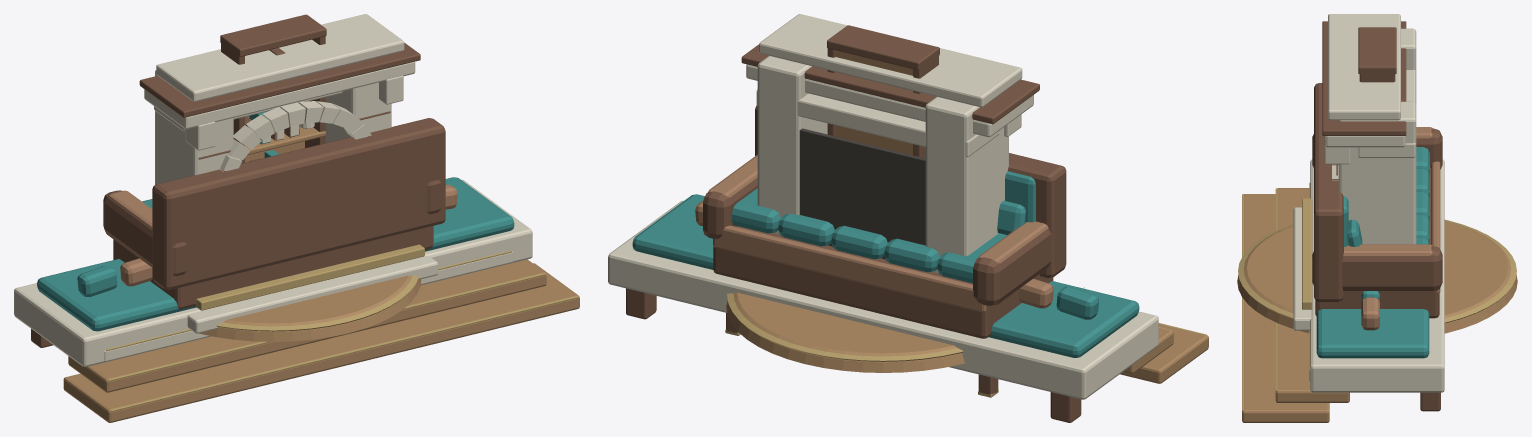
The model's file is home-furniture-v1.glb.
3 renders of one model, left to right at view 1: azimuth 30°, elevation 25°; view 2: azimuth 150°, elevation 25°; view 3: azimuth 270°, elevation 25°, orthographic. The views are drawn at different scales.
Parts seen in each view (by area): view 1: home-sofa-walnut, home-fireplace-ivory-stone, home-window-seat-oak, home-window-seat-ivory-stone, home-window-seat-teal-cloth, home-map-table-oak, home-fireplace-walnut, home-bookshelf-walnut, home-fireplace-aged-brass, home-window-seat-aged-brass, home-map-table-aged-brass, home-bookshelf-oak (+2 smaller); view 2: home-fireplace-ivory-stone, home-sofa-walnut, home-window-seat-ivory-stone, home-fireplace-hearth-shadow, home-window-seat-teal-cloth, home-map-table-oak, home-sofa-saddle-leather, home-sofa-teal-cloth, home-fireplace-walnut, home-bookshelf-walnut, home-window-seat-oak, home-map-table-aged-brass (+3 smaller); view 3: home-fireplace-ivory-stone, home-sofa-walnut, home-window-seat-oak, home-map-table-oak, home-window-seat-ivory-stone, home-window-seat-teal-cloth, home-fireplace-walnut, home-sofa-saddle-leather, home-bookshelf-walnut, home-sofa-teal-cloth, home-map-table-aged-brass, home-fireplace-aged-brass (+3 smaller).
Boxes of the visible parts, x1,y1,x2,y2 form: home-sofa-walnut: (103, 118, 445, 309); home-fireplace-ivory-stone: (144, 14, 437, 333); home-window-seat-oak: (63, 259, 579, 422); home-window-seat-ivory-stone: (14, 179, 532, 366); home-window-seat-teal-cloth: (37, 177, 514, 331); home-map-table-oak: (199, 275, 421, 341); home-fireplace-walnut: (139, 42, 420, 159); home-bookshelf-walnut: (220, 14, 326, 163); home-fireplace-aged-brass: (196, 244, 424, 310); home-window-seat-aged-brass: (106, 229, 578, 411); home-map-table-aged-brass: (216, 276, 419, 331); home-bookshelf-oak: (245, 116, 325, 162); home-fireplace-ivory-stone: (746, 14, 1033, 273); home-sofa-walnut: (703, 105, 1066, 338); home-window-seat-ivory-stone: (608, 200, 1158, 399); home-fireplace-hearth-shadow: (799, 128, 925, 259); home-window-seat-teal-cloth: (632, 194, 1139, 357); home-map-table-oak: (726, 292, 964, 372); home-sofa-saddle-leather: (708, 154, 1048, 312); home-sofa-teal-cloth: (732, 171, 1035, 283); home-fireplace-walnut: (741, 44, 1039, 124); home-bookshelf-walnut: (827, 25, 939, 158); home-window-seat-oak: (1120, 324, 1208, 383); home-map-table-aged-brass: (727, 293, 963, 361); home-fireplace-ivory-stone: (1293, 14, 1416, 330); home-sofa-walnut: (1312, 83, 1442, 318); home-window-seat-oak: (1242, 188, 1349, 422); home-map-table-oak: (1237, 221, 1517, 333); home-window-seat-ivory-stone: (1309, 159, 1444, 392); home-window-seat-teal-cloth: (1316, 291, 1429, 358); home-fireplace-walnut: (1322, 21, 1406, 175); home-sofa-saddle-leather: (1343, 127, 1440, 293); home-bookshelf-walnut: (1358, 27, 1396, 82); home-sofa-teal-cloth: (1343, 147, 1429, 246); home-map-table-aged-brass: (1238, 219, 1516, 323); home-fireplace-aged-brass: (1302, 198, 1312, 309).
Size of the model in its own units: 13.8 by 7.99 by 7.5.
